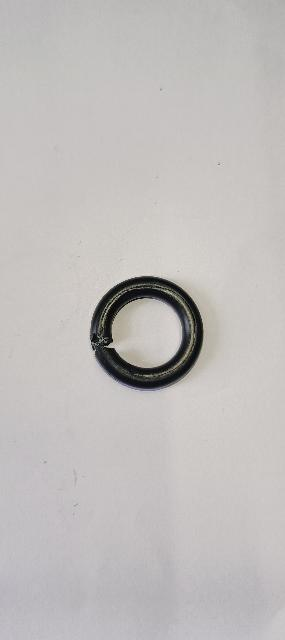crack: (99, 284, 198, 381), (86, 330, 122, 358)
